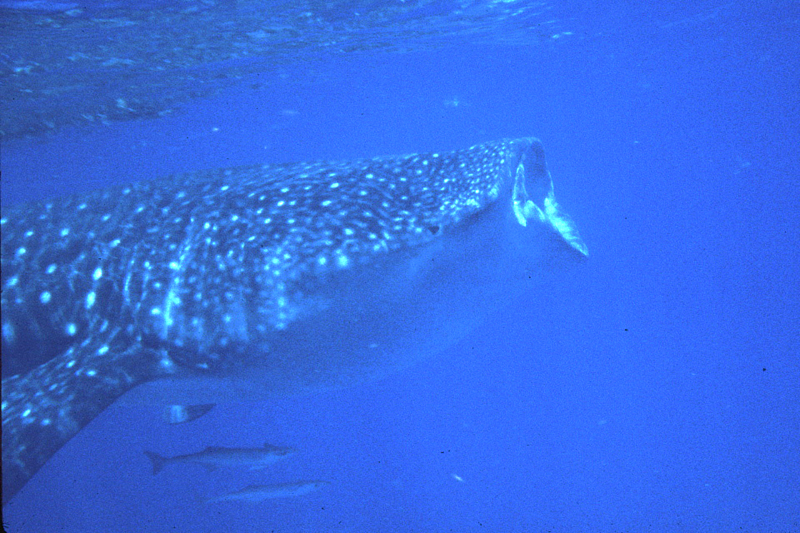Rhincodon_typusw: (1, 114, 602, 491)
